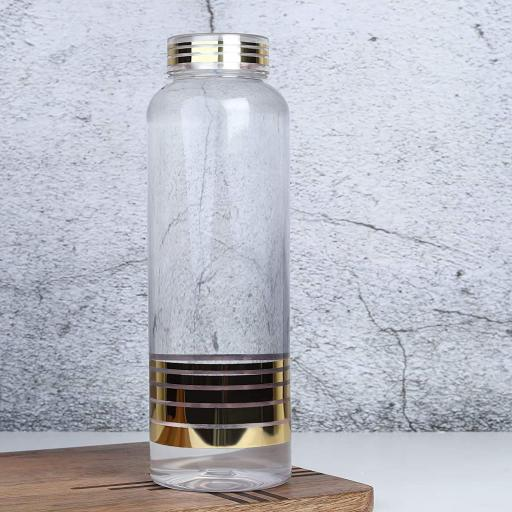bottle: (140, 26, 306, 498)
